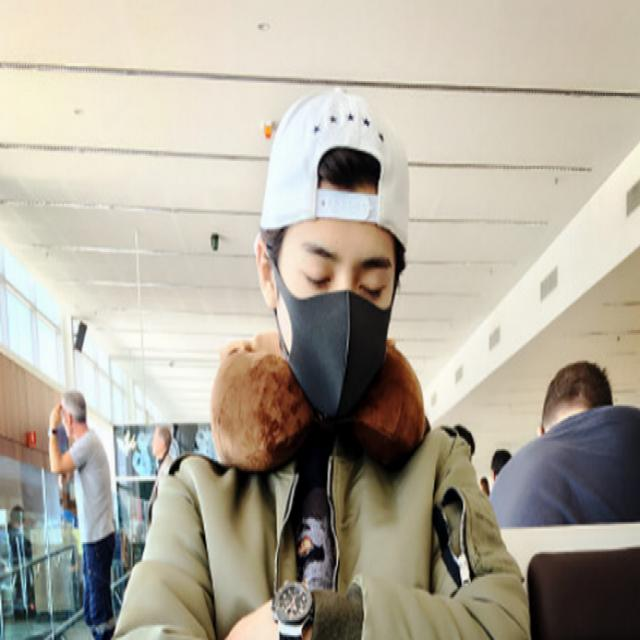mask: (279, 211, 393, 419)
